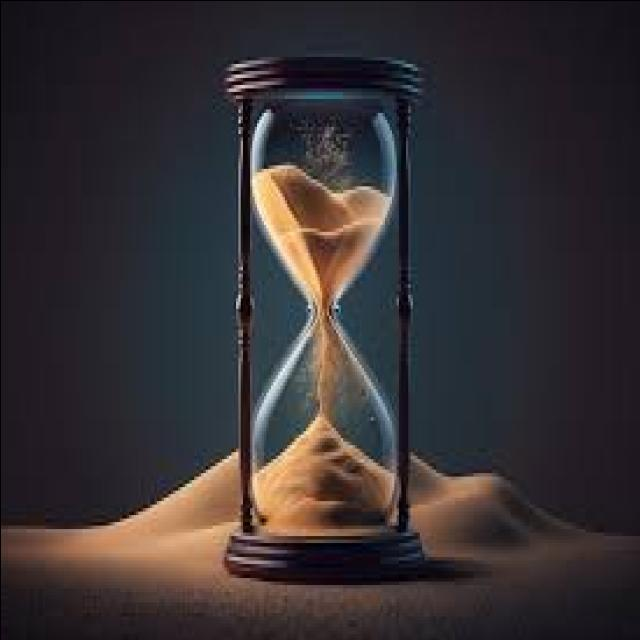clock: (214, 40, 438, 588)
